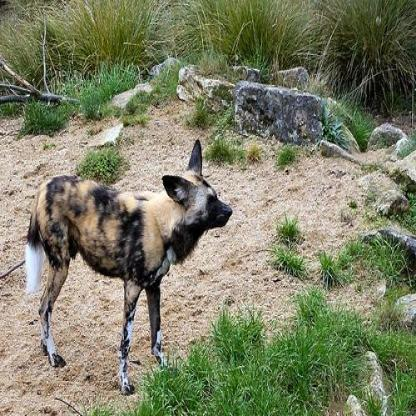African_hunting_dog: (24, 137, 236, 395)
